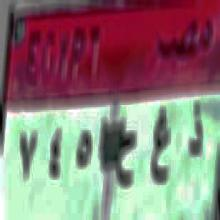4: (47, 127, 65, 184)
5: (74, 126, 95, 182)
7: (18, 126, 41, 185)
7aa: (113, 122, 140, 194)
ghayn: (148, 102, 172, 191)
zaal: (183, 93, 209, 165)
